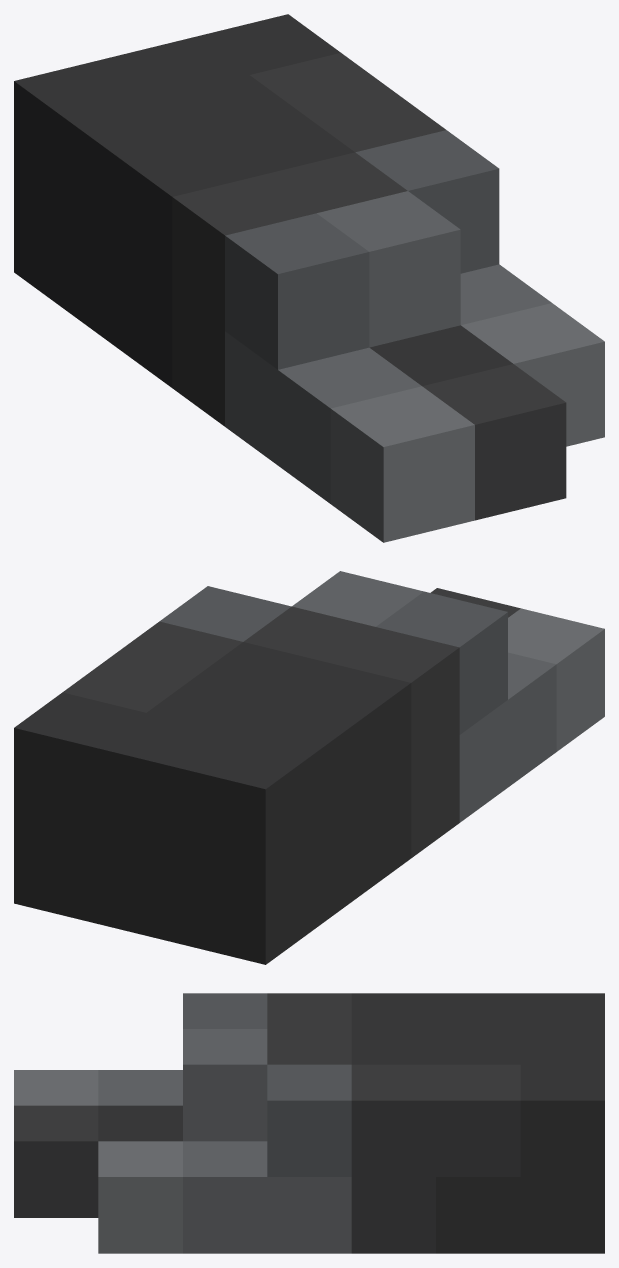
The model's file is golemLegLeft.obj.
3 views of the same model, one above another, from view 1: azimuth 30°, elevation 25°; view 2: azimuth 150°, elevation 25°; view 3: azimuth 270°, elevation 25° (orthographic). The views are drawn at different scales.
Visible parts, largest first — view 1: golemLegLeft; view 2: golemLegLeft; view 3: golemLegLeft.
Part boxes in pixels (x1,y1,x2,y2): golemLegLeft: (14,14,604,542); golemLegLeft: (14,571,604,964); golemLegLeft: (14,993,604,1253).
Bounding box in the file's own units: 3 × 2 × 7.
Materials: 1 (1 with a texture image).
